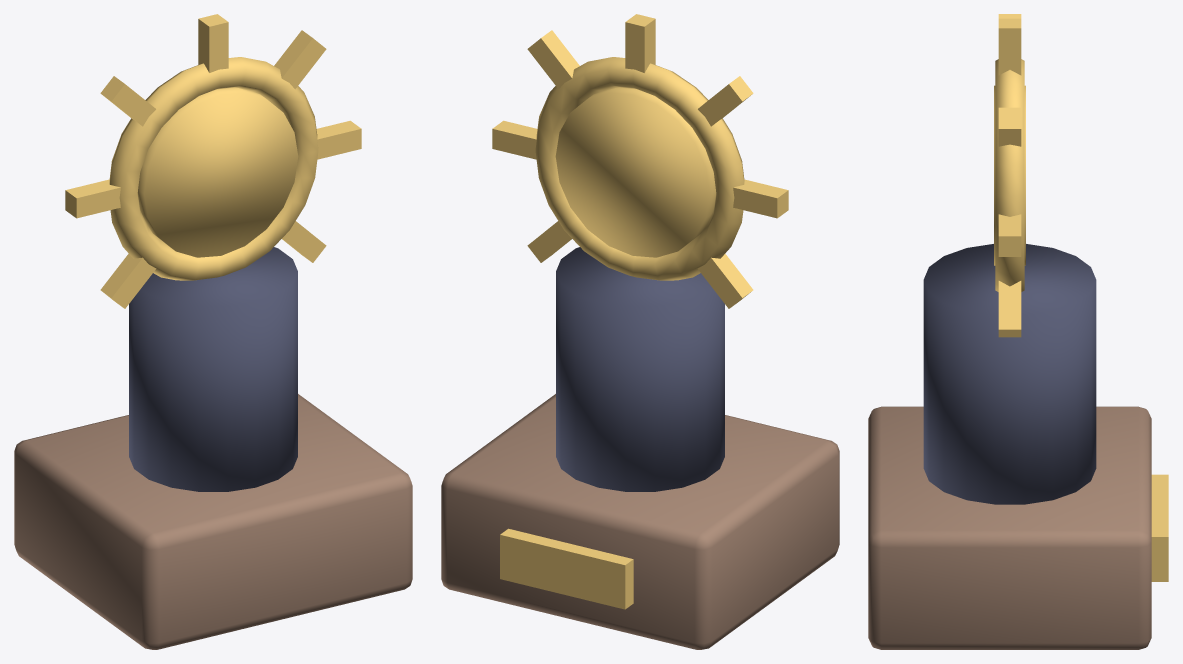
The model's file is FestivalSun.fbx.
3 renders of one model, left to right at view 1: azimuth 30°, elevation 25°; view 2: azimuth 150°, elevation 25°; view 3: azimuth 270°, elevation 25°, orthographic. The views are drawn at different scales.
Parts seen in each view (by area): view 1: FestivalSun Wood__Wood, FestivalSun Gold__Gold, FestivalSun Dark__Dark; view 2: FestivalSun Wood__Wood, FestivalSun Gold__Gold, FestivalSun Dark__Dark; view 3: FestivalSun Wood__Wood, FestivalSun Dark__Dark, FestivalSun Gold__Gold.
Boxes of the visible parts, x1=… form: FestivalSun Wood__Wood: x1=14, y1=394, x2=412, y2=649; FestivalSun Gold__Gold: x1=65, y1=14, x2=361, y2=308; FestivalSun Dark__Dark: x1=129, y1=247, x2=297, y2=491; FestivalSun Wood__Wood: x1=441, y1=394, x2=839, y2=649; FestivalSun Gold__Gold: x1=492, y1=14, x2=788, y2=609; FestivalSun Dark__Dark: x1=556, y1=247, x2=724, y2=491; FestivalSun Wood__Wood: x1=868, y1=406, x2=1151, y2=649; FestivalSun Dark__Dark: x1=923, y1=244, x2=1096, y2=504; FestivalSun Gold__Gold: x1=994, y1=14, x2=1168, y2=581.
Size of the model in its own units: 148 by 275 by 132.
